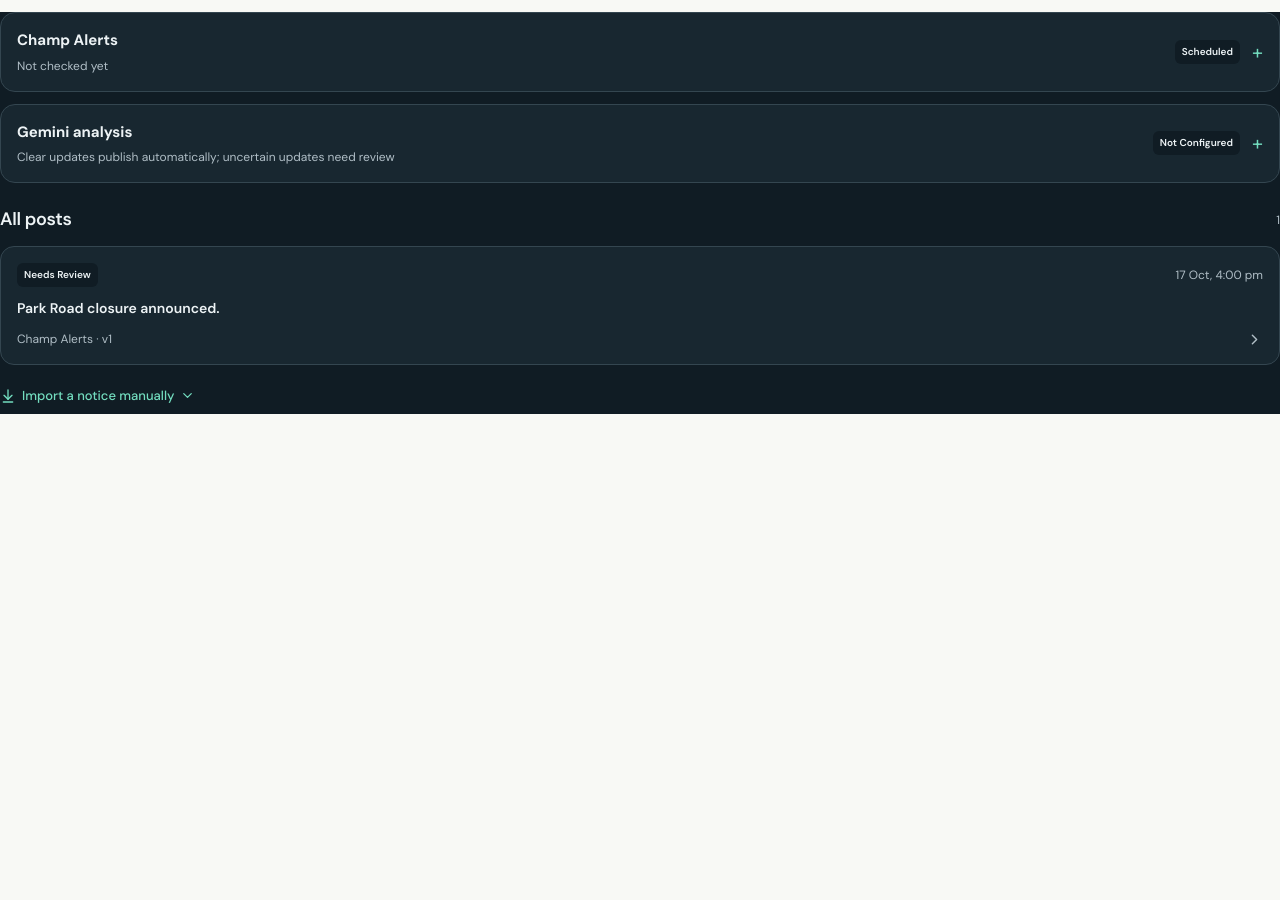
opens saved analysis in its adjacent post panel without collecting or analysing again
Click the button that starts with "Needs review". click: (640, 306)
box: [0,246,1279,365]
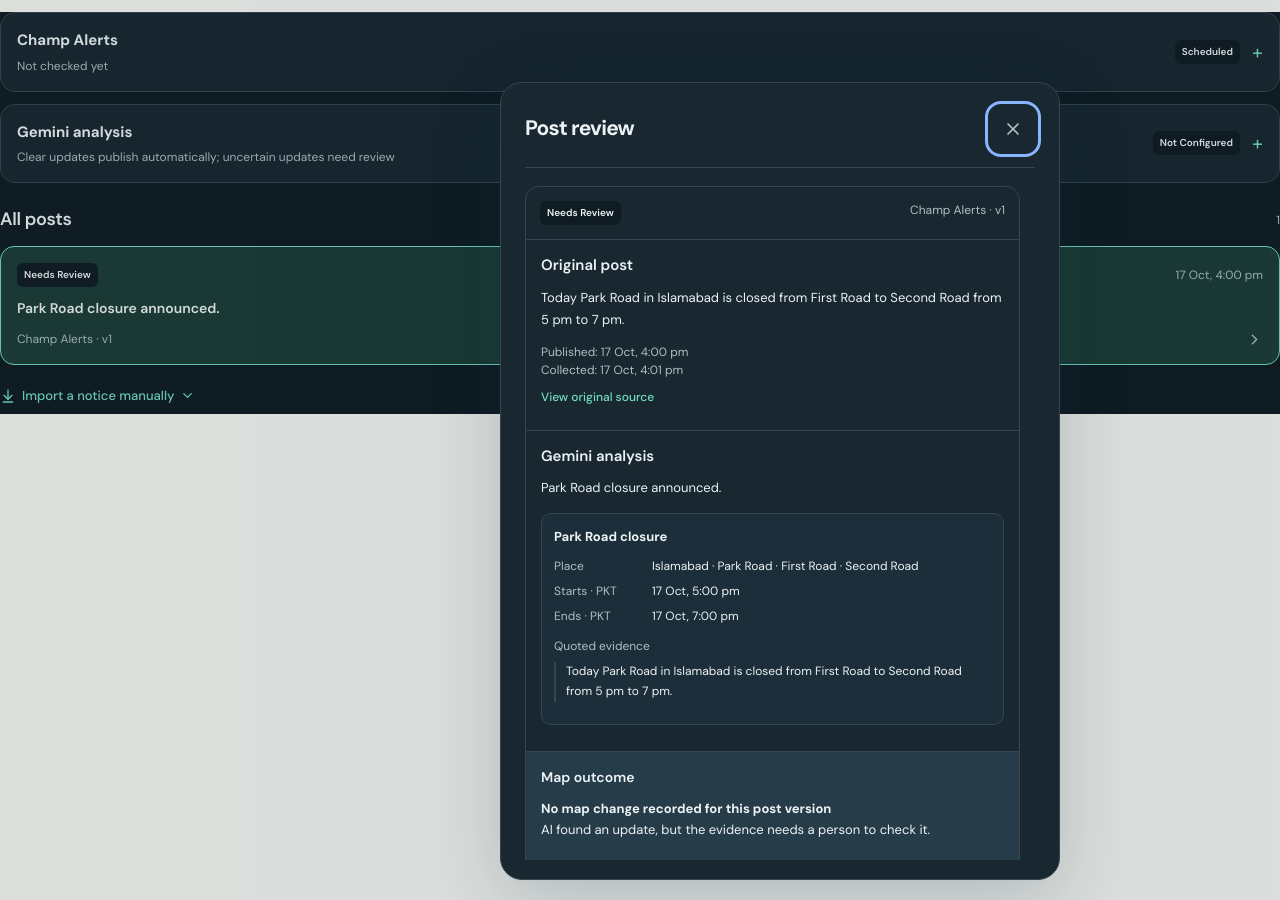
Expected: the heading "Original post" is shown, [541,255,633,275]
Expected: the heading "Gemini analysis" is shown, [541,446,654,466]
